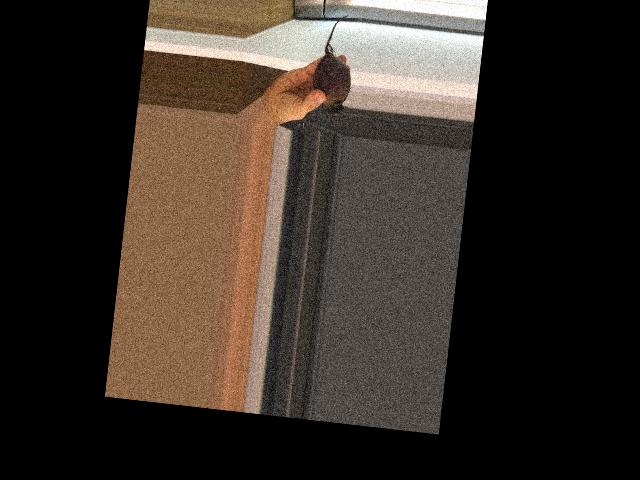beet: (309, 12, 358, 120)
